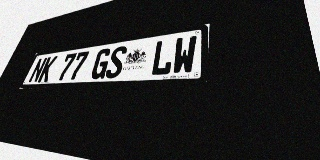7: (67, 51, 89, 81), (55, 53, 77, 81)
G: (89, 48, 112, 79)
K: (37, 56, 58, 82)
L: (150, 38, 175, 76)
N: (28, 57, 48, 83)
S: (104, 45, 128, 79)
W: (171, 35, 197, 75)
